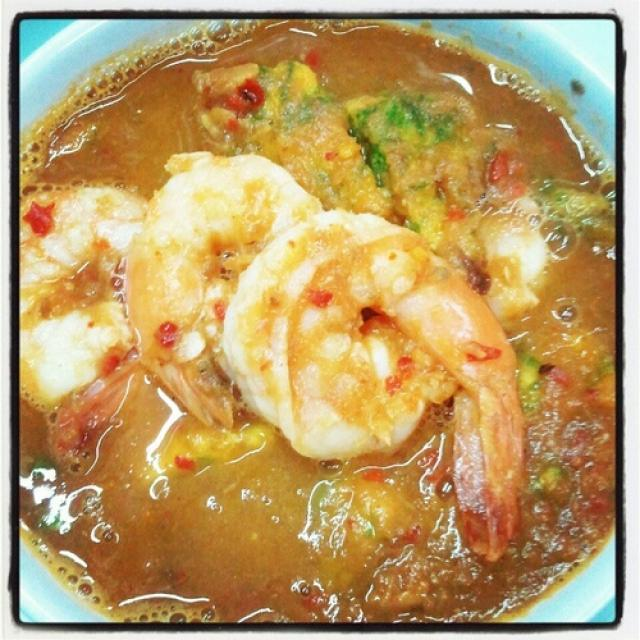汤锅炖物: (22, 39, 612, 610)
